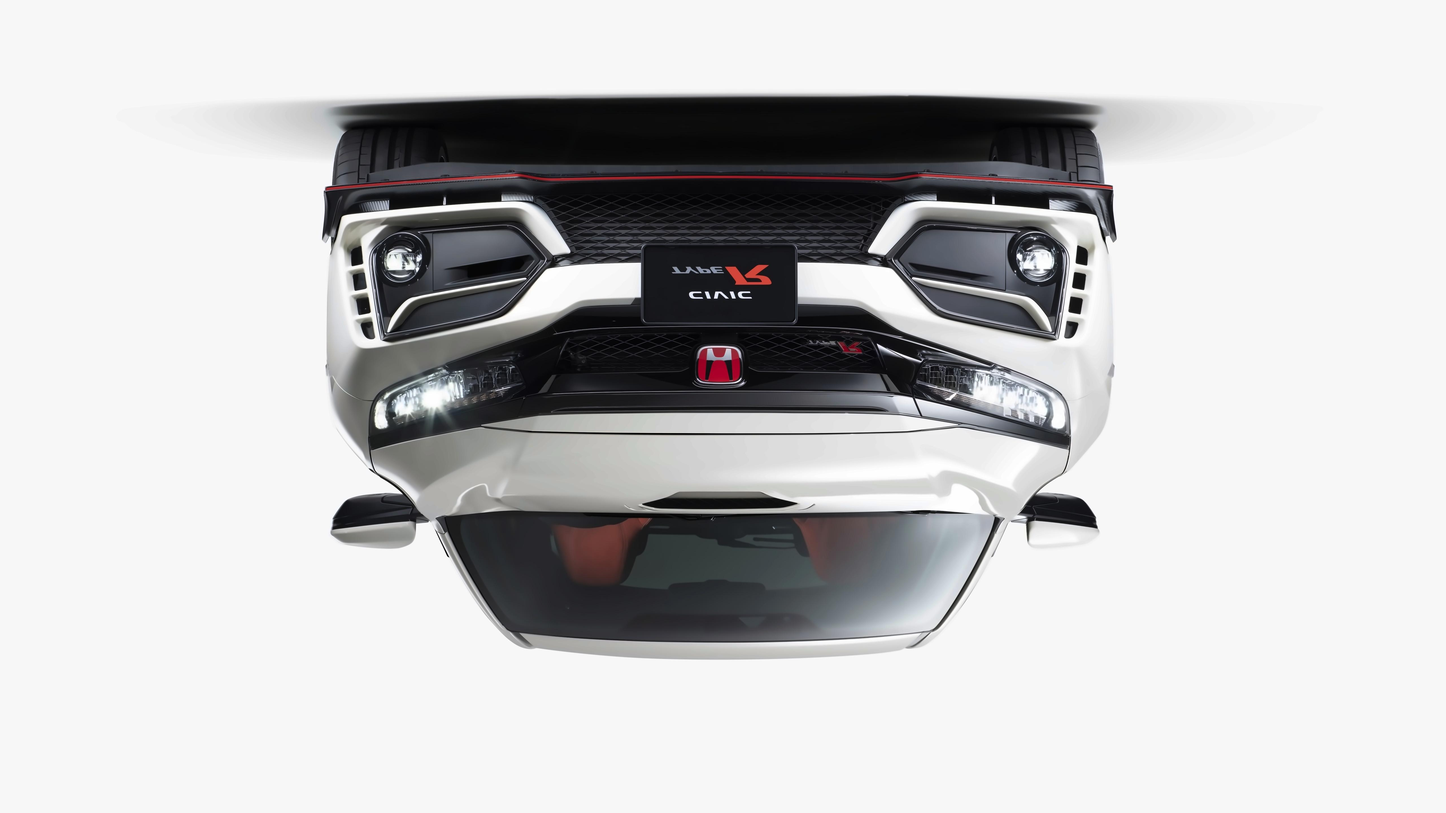Car hood: (360, 405, 1075, 521)
Front bumper: (315, 163, 1123, 389)
Headlight - -L-: (366, 335, 535, 443)
Headlight - -R-: (903, 348, 1078, 450)
Side mirror - -L-: (321, 484, 426, 557)
Side mirror - -R-: (1014, 482, 1107, 557)
